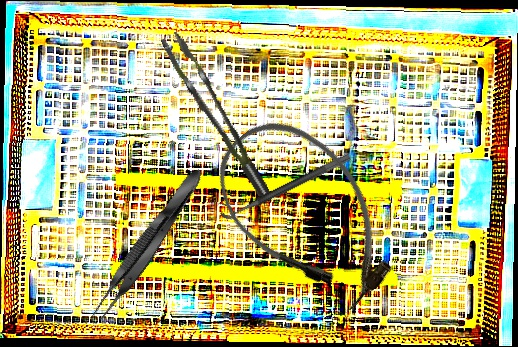Cannula: (194, 97, 419, 331)
Fixation Ring: (215, 142, 352, 223)
Tissue Forceps: (86, 163, 211, 326), (160, 23, 270, 208)
